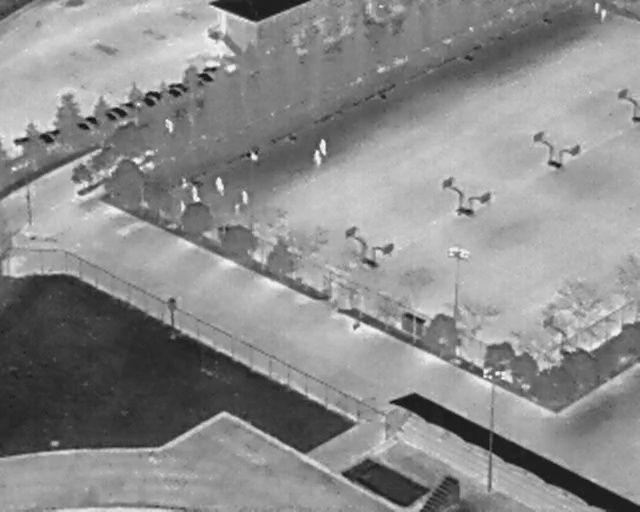Car: (35, 126, 57, 149), (10, 129, 34, 148), (108, 101, 129, 120), (194, 68, 215, 85), (84, 111, 102, 128), (121, 97, 140, 113), (169, 80, 189, 94), (142, 94, 159, 110), (75, 119, 92, 134), (166, 86, 182, 100), (102, 108, 117, 122), (203, 63, 219, 74), (146, 89, 163, 99), (49, 126, 62, 139)
Person: (310, 148, 325, 171), (316, 135, 330, 157), (213, 176, 226, 198), (190, 185, 200, 202), (232, 203, 242, 217), (177, 200, 187, 214), (240, 190, 249, 205), (249, 151, 259, 162), (594, 2, 602, 15), (601, 9, 608, 23)
